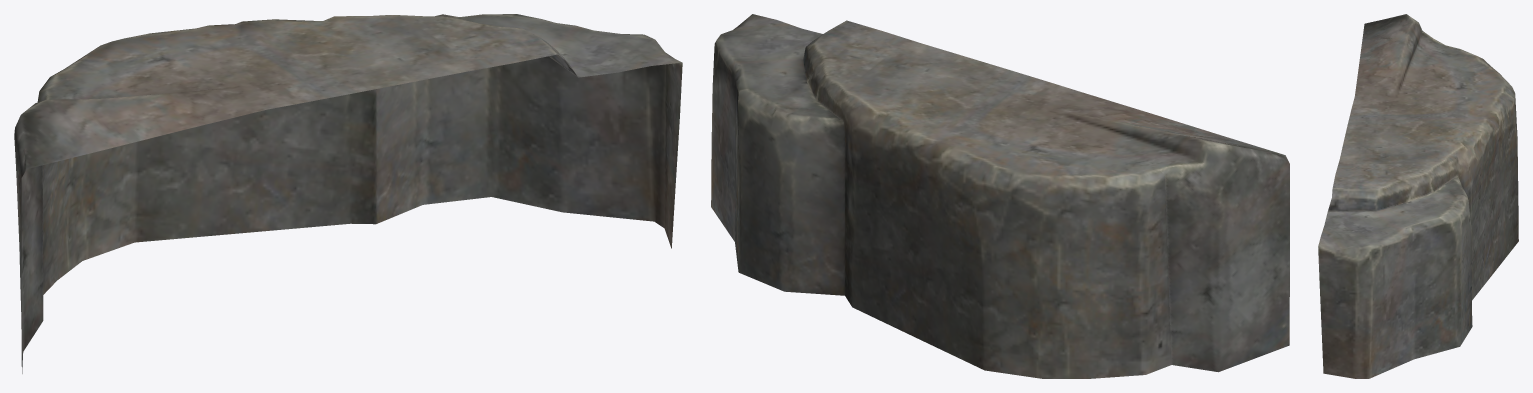
File: Rock_B2.fbx
The picture shows the model from 3 angles, left to right: view 1: azimuth 30°, elevation 25°; view 2: azimuth 150°, elevation 25°; view 3: azimuth 270°, elevation 25°; orthographic projection. The views are drawn at different scales.
Visible parts, largest first — view 1: Rock_B2__54_; view 2: Rock_B2__54_; view 3: Rock_B2__54_.
Boxes of the visible parts, <box> form: Rock_B2__54_: <box>14,14,682,373</box>; Rock_B2__54_: <box>711,14,1289,378</box>; Rock_B2__54_: <box>1318,14,1518,378</box>.
Bounding box in the file's own units: 1.19 × 0.4435 × 0.4704.
Materials: 1 (1 with a texture image).
